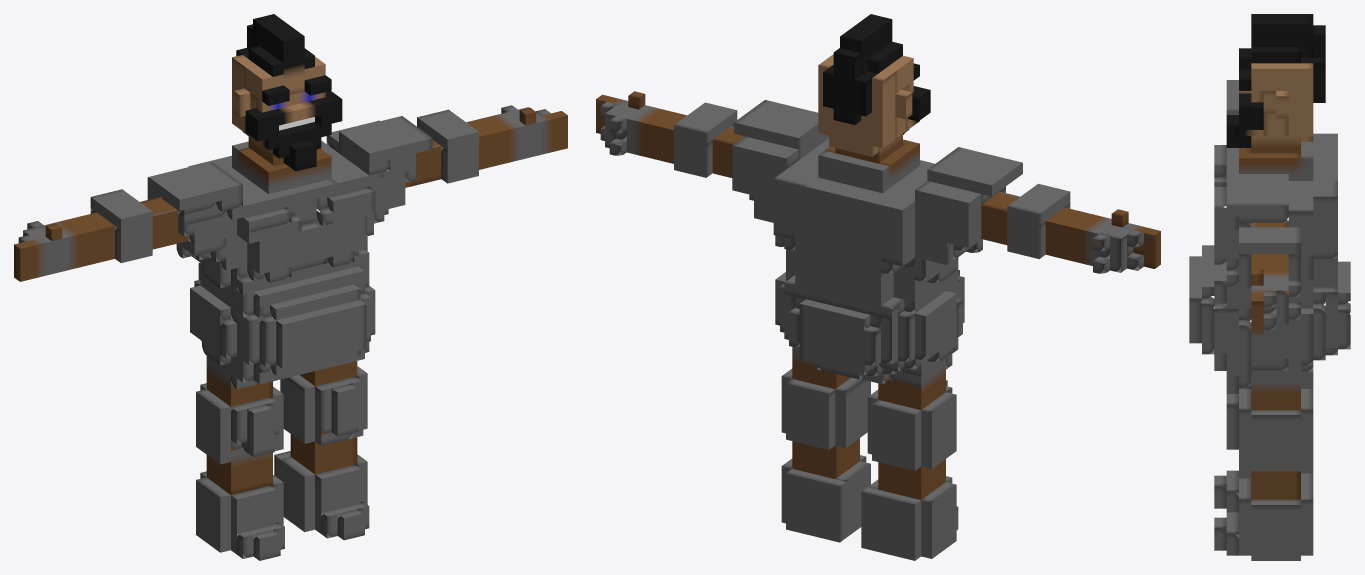
File: RArmHugo.obj
The picture shows the model from 3 angles, left to right: view 1: azimuth 30°, elevation 25°; view 2: azimuth 150°, elevation 25°; view 3: azimuth 270°, elevation 25°; orthographic projection. The views are drawn at different scales.
Parts seen in each view (by area): view 1: Model; view 2: Model; view 3: Model.
Part boxes in pixels (bbox=[...]): Model: bbox=[14, 14, 567, 560]; Model: bbox=[596, 14, 1160, 560]; Model: bbox=[1189, 14, 1350, 560].
Size of the model in its own units: 26 by 22.5 by 6.5.
Materials: 1 (1 with a texture image).
